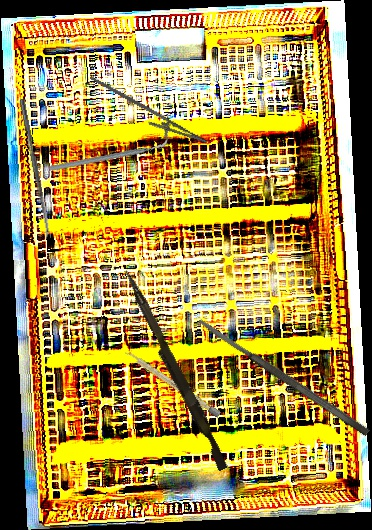Chopper: (48, 113, 171, 196)
Needle Holder: (79, 75, 215, 154)
Pusher: (115, 268, 234, 472)
Scalpel Handle: (123, 349, 222, 418)
Spatula Surgical: (196, 315, 371, 438)
Surgical Spoon: (18, 98, 52, 240)
